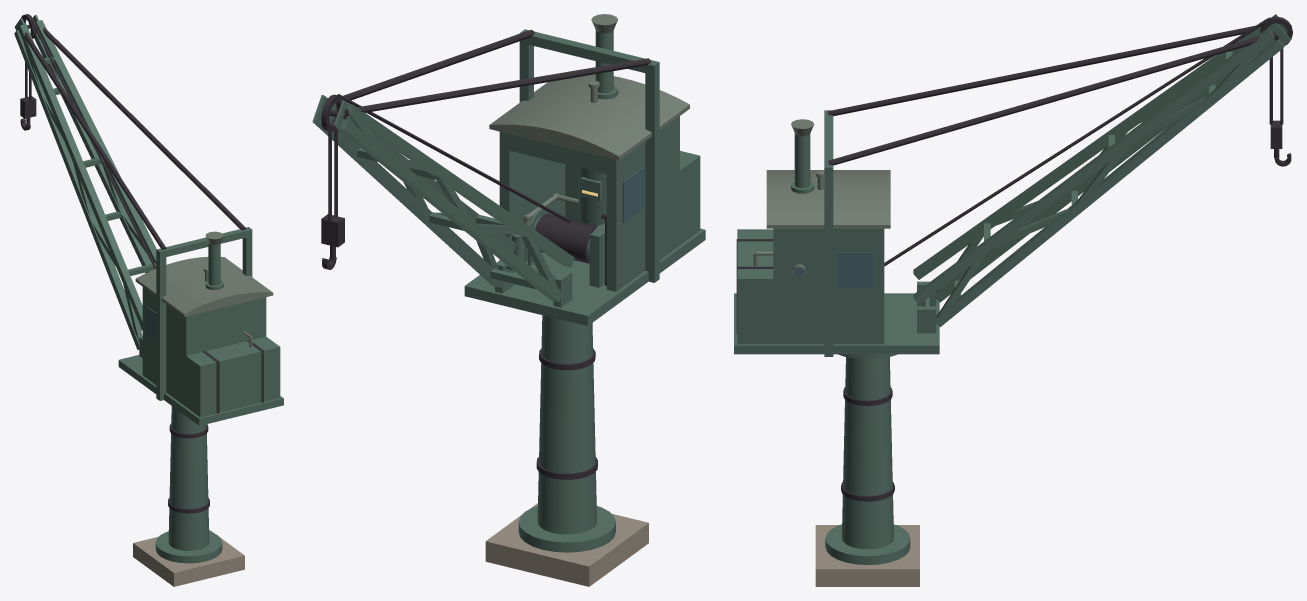
The model's file is prop_steam_crane_v1.glb.
The picture shows the model from 3 angles, left to right: view 1: azimuth 30°, elevation 25°; view 2: azimuth 150°, elevation 25°; view 3: azimuth 270°, elevation 25°; orthographic projection. The views are drawn at different scales.
Visible parts, largest first — view 1: SteamCrane; view 2: SteamCrane; view 3: SteamCrane.
Part boxes in pixels (left/top/right/bottom): SteamCrane: left=14, top=14, right=283, bottom=586; SteamCrane: left=312, top=14, right=705, bottom=586; SteamCrane: left=734, top=14, right=1292, bottom=586.
Size of what is drawn, in the model's own units: 2.08 by 9.25 by 8.56.
